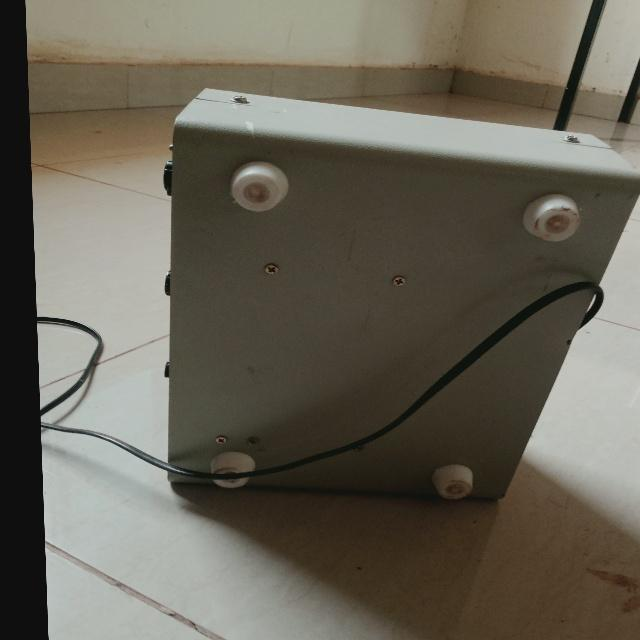Function Generator 100Khz: (94, 70, 640, 512)
